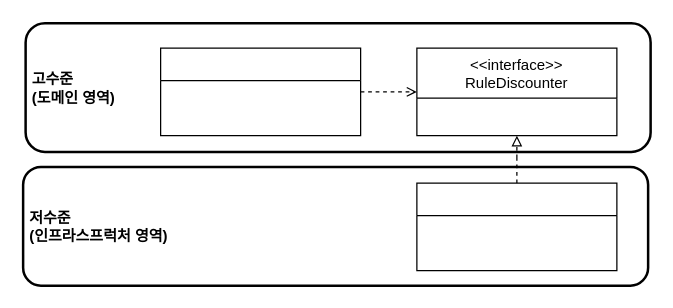
Some shapes in this 673 by 308 pixel diagram are drawn without their labels. Here are the shapes that lost their labels. From the top down, the centre of each, then its label:
At point 260,91: "CalculateDiscountService".
At point 516,226: "DroolsRuleDiscounter".
